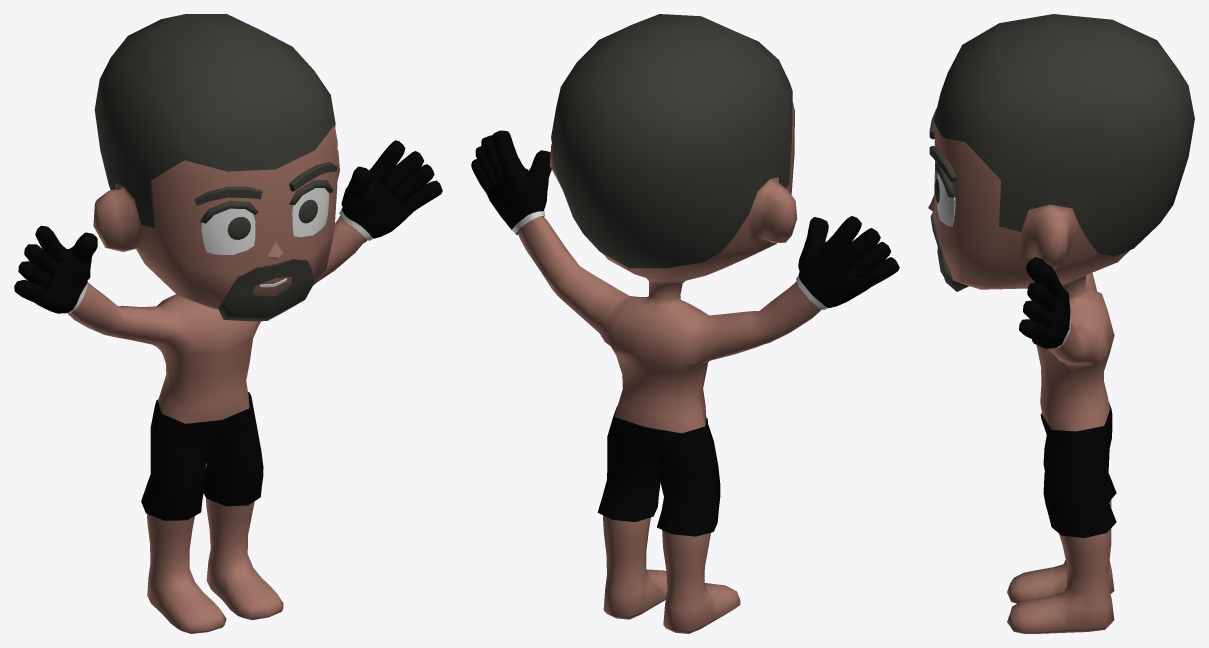
The model's file is Inkafc_1.fbx.
The picture shows the model from 3 angles, left to right: view 1: azimuth 30°, elevation 25°; view 2: azimuth 150°, elevation 25°; view 3: azimuth 270°, elevation 25°; orthographic projection.
Visible parts, largest first — view 1: body.009, hair4.001, gloves1, shorts1, beard2, eyesbase1, eyebrows1, eyes6; view 2: hair4.001, body.009, gloves1, shorts1; view 3: hair4.001, body.009, shorts1, gloves1, eyesbase1, beard2, eyebrows1.
Part boxes in pixels (x1,y1,x2,y2): body.009: (67, 125, 367, 633); hair4.001: (94, 14, 335, 227); gloves1: (14, 140, 442, 313); shorts1: (141, 392, 263, 520); beard2: (218, 259, 314, 321); eyesbase1: (200, 180, 333, 254); eyebrows1: (194, 162, 337, 205); eyes6: (227, 199, 317, 239); hair4.001: (551, 14, 792, 268); body.009: (517, 102, 821, 633); gloves1: (471, 130, 899, 309); shorts1: (597, 405, 720, 536); hair4.001: (933, 14, 1194, 256); body.009: (933, 123, 1129, 633); shorts1: (1040, 403, 1116, 537); gloves1: (1019, 257, 1071, 348); eyesbase1: (935, 163, 955, 226); beard2: (930, 212, 968, 291); eyebrows1: (929, 108, 957, 181).
Size of the model in its own units: 68.54 by 88.95 by 36.76.
